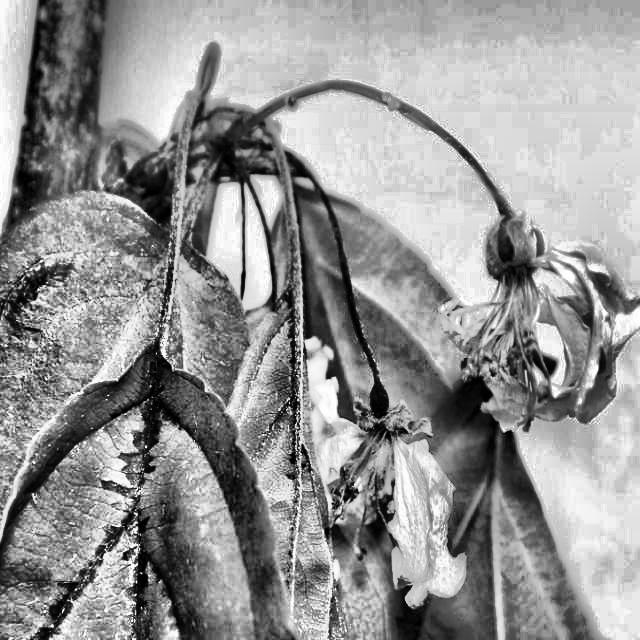plants: (37, 51, 630, 640)
